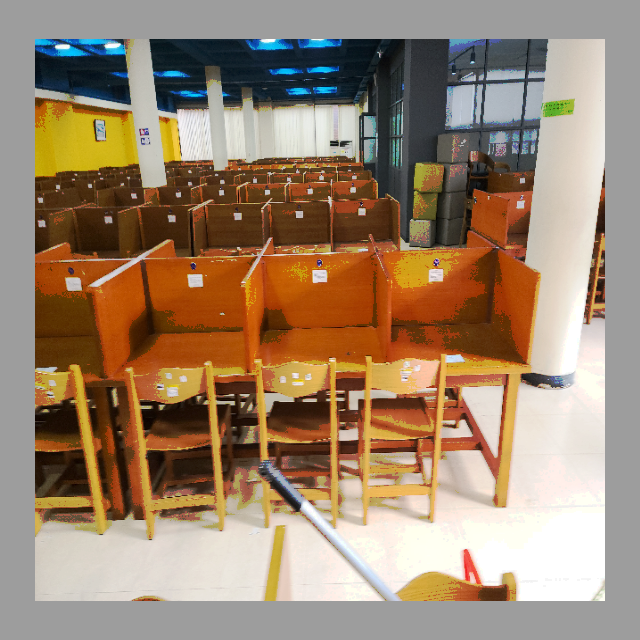empty: (396, 248, 533, 445), (97, 256, 246, 437), (251, 257, 390, 429)
